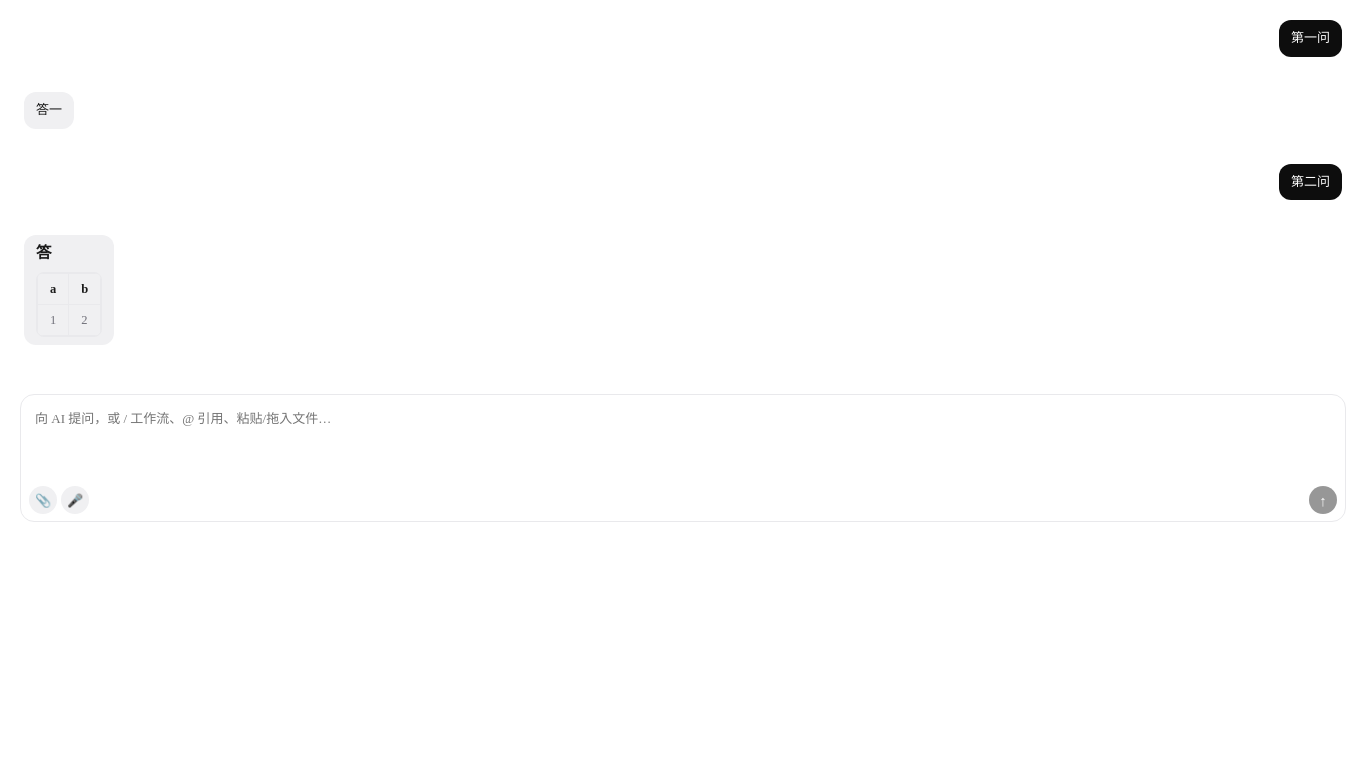
Test case: 语音输入按钮（v5.8.0） › 录音过短 → 显示错误文案（error 事件不再被吞）
// 第一次点击：开始录音；第二次点击：停止 + 转写（得到「录音太短」错误事件）
Click the button "🎤".
click(75, 500)  # box [61,486,89,514]
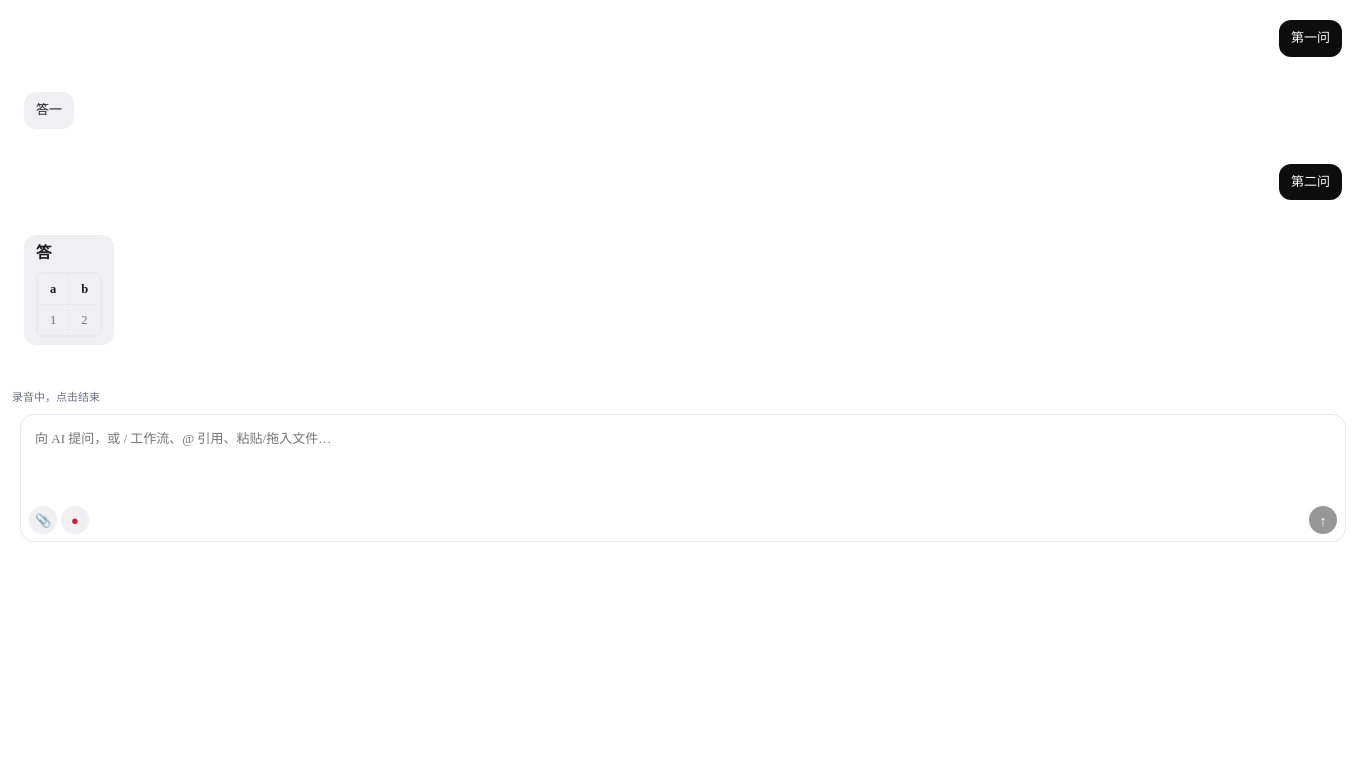
Click the button "●".
click(75, 520)  # box [61,506,89,534]
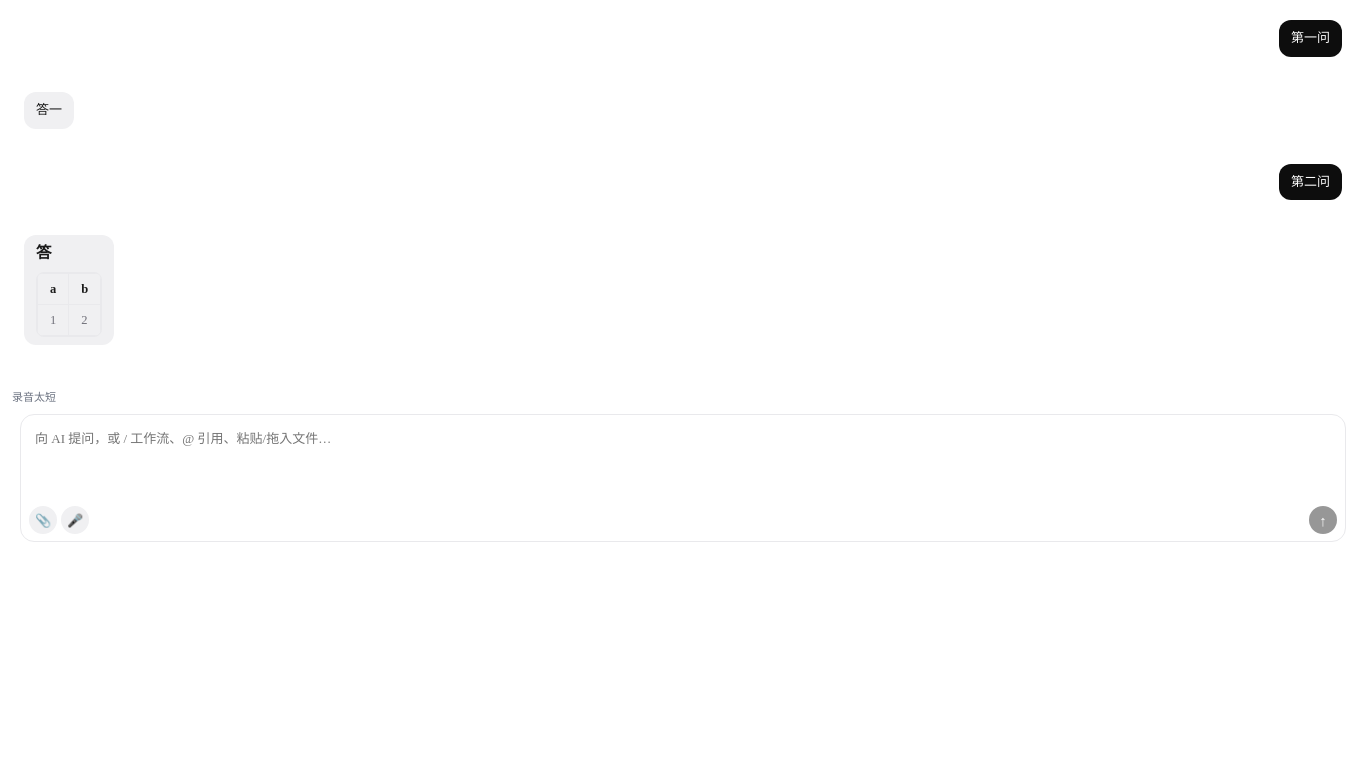
Expected: the text with class "sf-ah-speech-status" reads "录音太短", [12,391,56,403]
